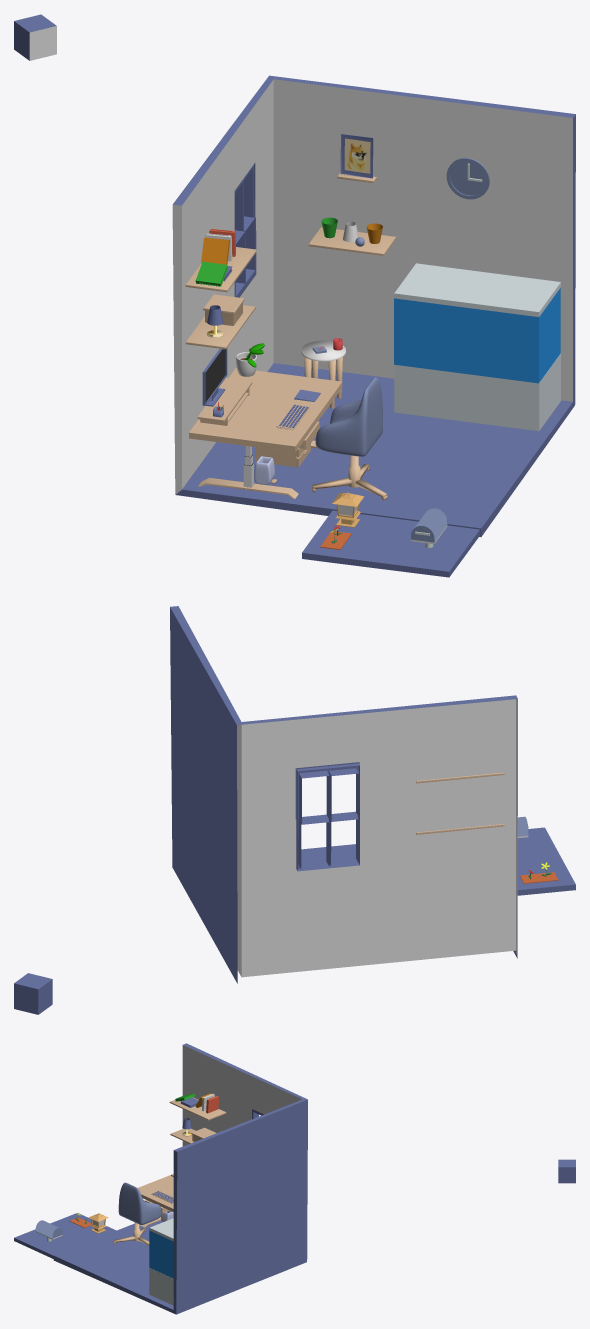
Rendered from ported.glb.
3 renders of one model, top to bottom at view 1: azimuth 30°, elevation 25°; view 2: azimuth 150°, elevation 25°; view 3: azimuth 270°, elevation 25°, orthographic. The views are drawn at different scales.
Parts seen in each view (by area): view 1: Body, Aquarium, Desks, Shelves, Mini floor, Chair, Table stuff, Floor items, Cube, Clock, Computer, Mailbox (+1 smaller); view 2: Body, Mini floor, Cube, Shelves; view 3: Body, Aquarium, Mini floor, Shelves, Chair, Desks, Floor items, Cube, Mailbox.
Boxes of the visible parts, x1,y1,x2,y2 form: Body: (172,75,575,536); Aquarium: (394,263,560,431); Desks: (189,340,345,498); Shelves: (185,134,396,349); Mini floor: (302,510,479,577); Chair: (315,377,382,456); Table stuff: (197,338,342,430); Floor items: (254,421,387,500); Cube: (14,14,56,60); Clock: (446,158,489,199); Computer: (202,348,227,406); Mailbox: (411,508,447,547); Body: (170,606,517,983); Mini floor: (517,827,575,895); Cube: (14,973,52,1014); Shelves: (416,772,504,834); Body: (53,1043,307,1314); Aquarium: (149,1218,173,1305); Mini floor: (14,1213,116,1258); Shelves: (169,1093,226,1143); Chair: (118,1182,161,1224); Desks: (138,1175,173,1227); Floor items: (113,1200,173,1245); Cube: (558,1159,575,1183); Mailbox: (35,1220,62,1241).
Bounding box in the file's own units: 29.04 × 20.55 × 63.54.
58 materials, 1 textured.
